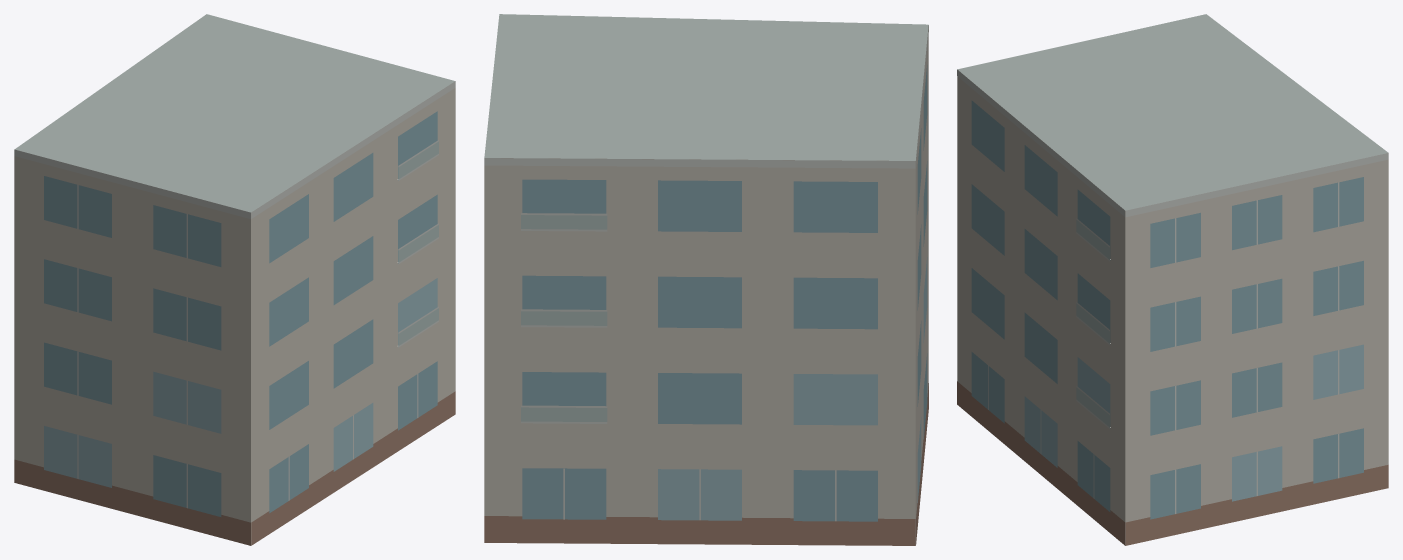
File: survey-upis-32616085.glb
The picture shows the model from 3 angles, left to right: view 1: azimuth 30°, elevation 25°; view 2: azimuth 150°, elevation 25°; view 3: azimuth 270°, elevation 25°; orthographic projection. The views are drawn at different scales.
Visible parts, largest first — view 1: survey-upis-32616085.tmp; view 2: survey-upis-32616085.tmp; view 3: survey-upis-32616085.tmp.
Boxes of the visible parts, x1,y1,x2,y2 form: survey-upis-32616085.tmp: [14, 14, 455, 545]; survey-upis-32616085.tmp: [484, 14, 928, 545]; survey-upis-32616085.tmp: [957, 14, 1388, 545].
Bounding box in the file's own units: 15.49 × 12.3 × 14.36.
